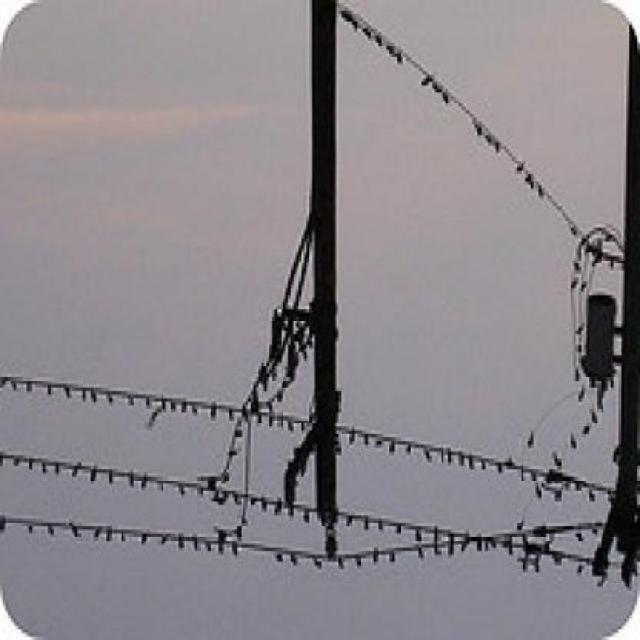pole: (284, 0, 363, 572), (581, 1, 640, 581)
